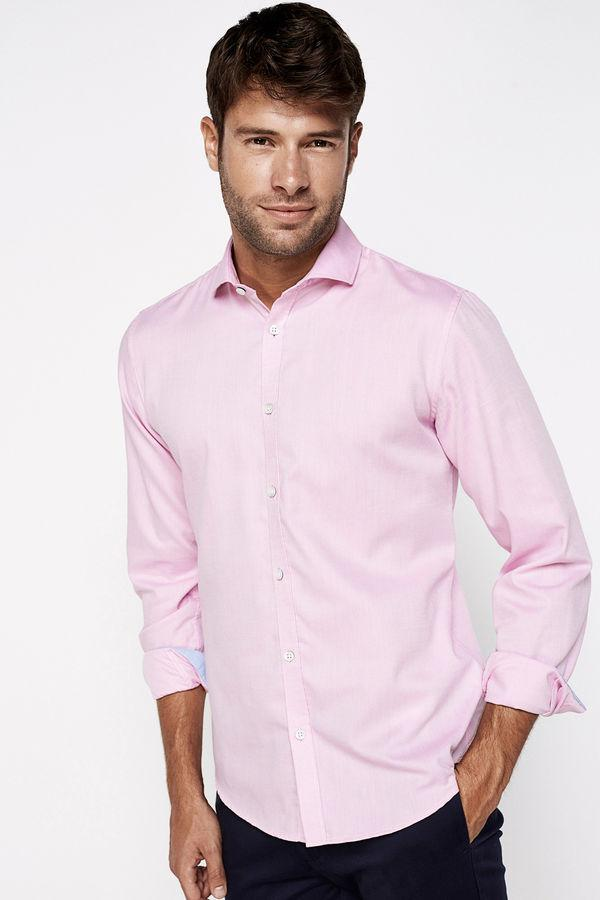teeshirt: (104, 229, 600, 841)
